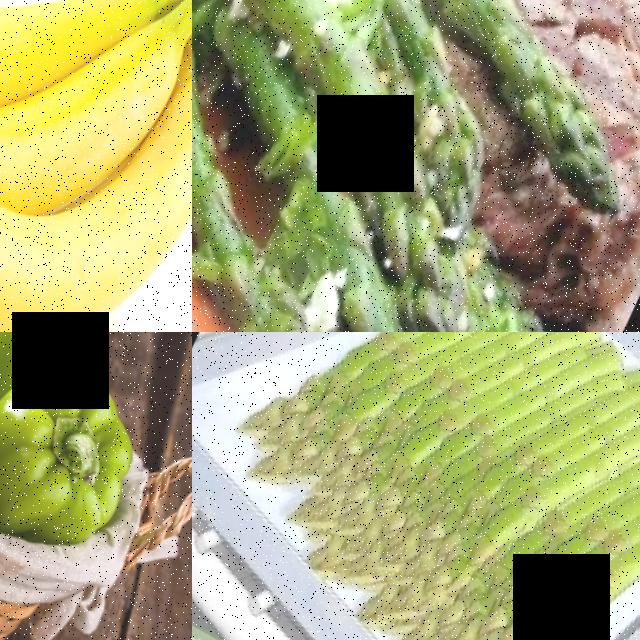asparagus: (424, 0, 634, 175), (335, 196, 512, 332), (192, 297, 399, 332)
banana: (0, 0, 192, 332)
bell pepper: (0, 345, 140, 549), (0, 332, 119, 375)
